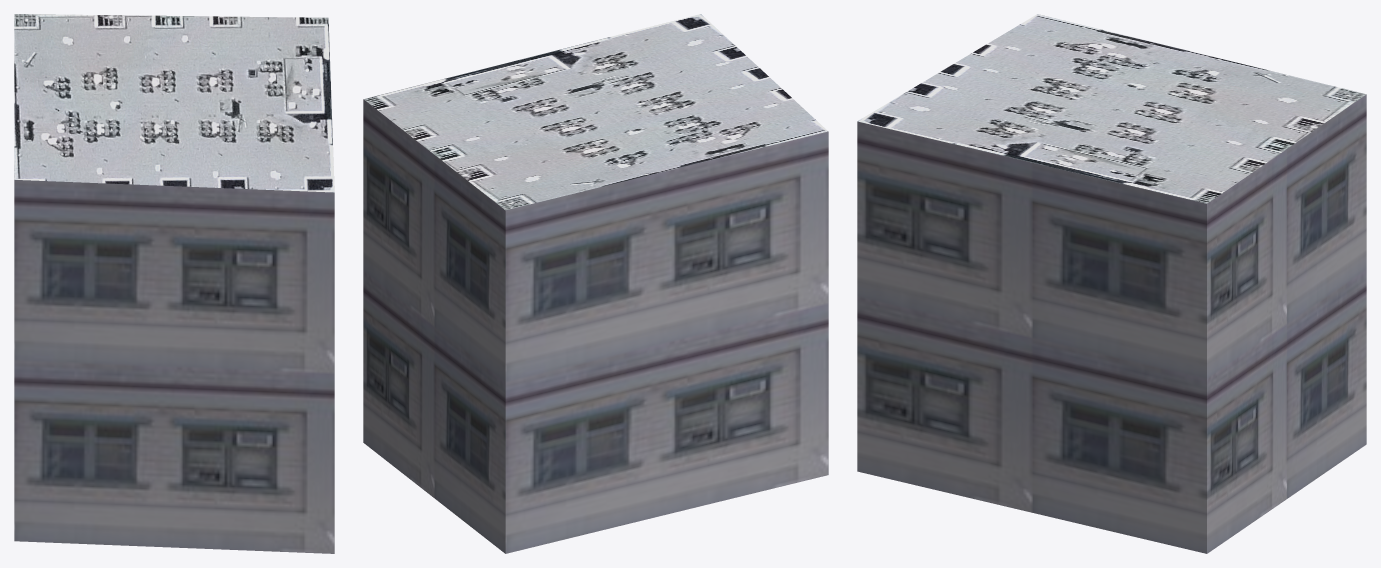
File: ResTex__2449.fbx
3 renders of one model, left to right at view 1: azimuth 30°, elevation 25°; view 2: azimuth 150°, elevation 25°; view 3: azimuth 270°, elevation 25°, orthographic. The views are drawn at different scales.
Parts seen in each view (by area): view 1: CityEngineMaterial_1_m, CityEngineMaterial_m; view 2: CityEngineMaterial_1_m, CityEngineMaterial_m; view 3: CityEngineMaterial_1_m, CityEngineMaterial_m.
Boxes of the visible parts, <box> form: CityEngineMaterial_1_m: <box>14,180,334,553</box>; CityEngineMaterial_m: <box>14,14,334,192</box>; CityEngineMaterial_1_m: <box>363,99,828,553</box>; CityEngineMaterial_m: <box>364,14,828,210</box>; CityEngineMaterial_1_m: <box>857,94,1366,553</box>; CityEngineMaterial_m: <box>857,14,1366,203</box>.
Bounding box in the file's own units: 6.98 × 6 × 7.92.
2 materials, 2 textured.
